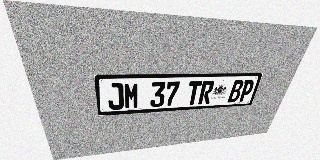3: (150, 82, 166, 107)
7: (164, 81, 180, 107)
B: (227, 80, 245, 102)
J: (107, 83, 124, 110)
M: (124, 82, 139, 109)
P: (238, 80, 256, 102)
R: (198, 81, 215, 104)
T: (186, 81, 202, 105)
